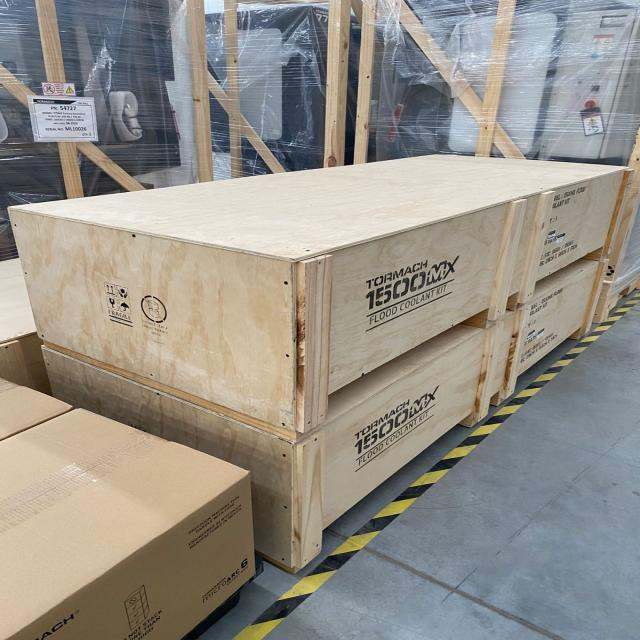flood: (9, 155, 625, 432), (50, 260, 602, 555)
